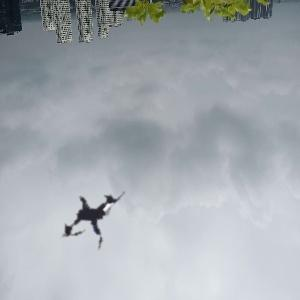drone: (35, 156, 159, 280)
